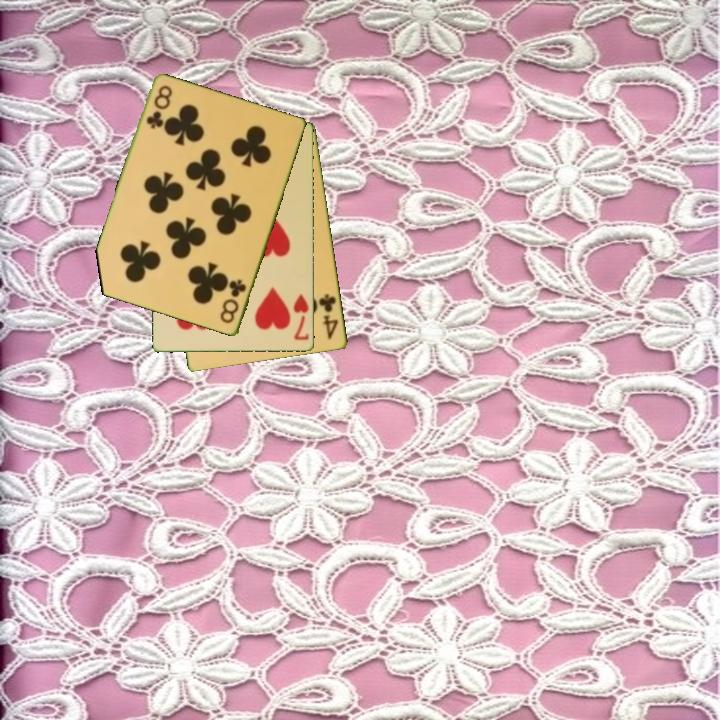4c: (315, 291, 341, 343)
7h: (290, 290, 312, 343)
8c: (217, 276, 249, 327), (143, 82, 175, 132)
